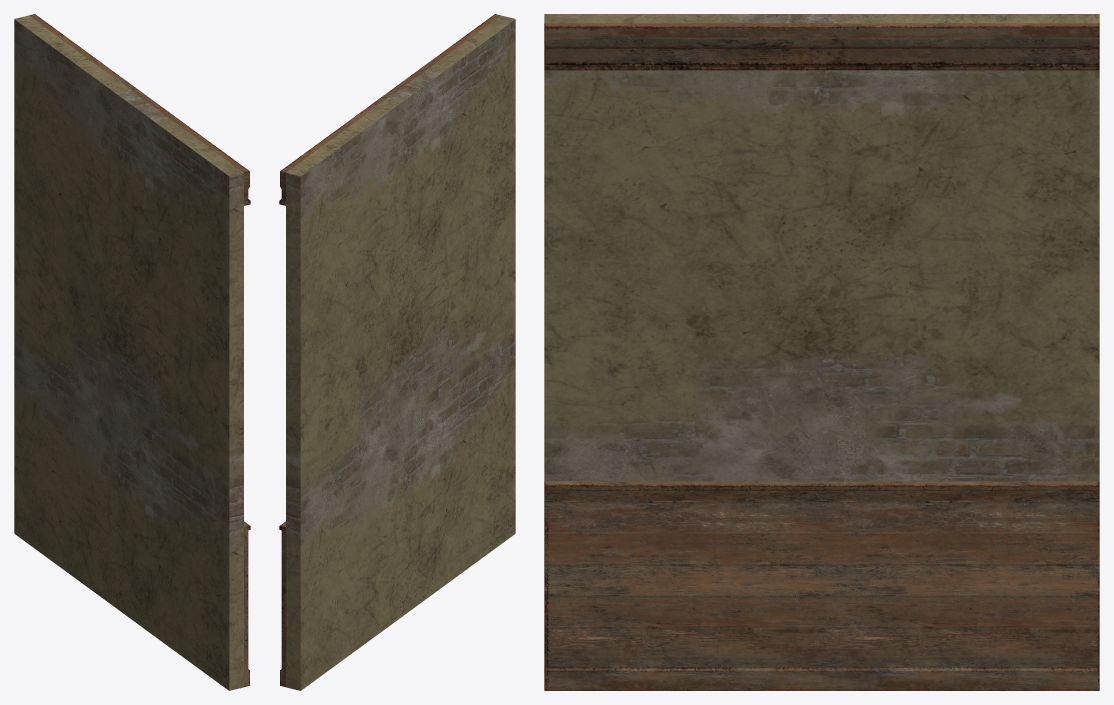
Rendered from Wall.fbx.
3 renders of one model, left to right at view 1: azimuth 30°, elevation 25°; view 2: azimuth 150°, elevation 25°; view 3: azimuth 270°, elevation 25°, orthographic. The views are drawn at different scales.
Parts seen in each view (by area): view 1: Wall_plain.001, WallTrim_Bot.001; view 2: Wall_plain.001, WallTrim_Bot.001; view 3: Wall_plain.001, WallTrim_Bot.001.
Part boxes in pixels (<box>): Wall_plain.001: <box>14,15,243,690</box>; WallTrim_Bot.001: <box>29,14,250,686</box>; Wall_plain.001: <box>286,15,515,690</box>; WallTrim_Bot.001: <box>279,14,500,686</box>; Wall_plain.001: <box>544,14,1099,481</box>; WallTrim_Bot.001: <box>544,23,1099,690</box>.
Size of the model in its own units: 0.1458 by 2.5 by 3.3.
Materials: 2 (2 with a texture image).
